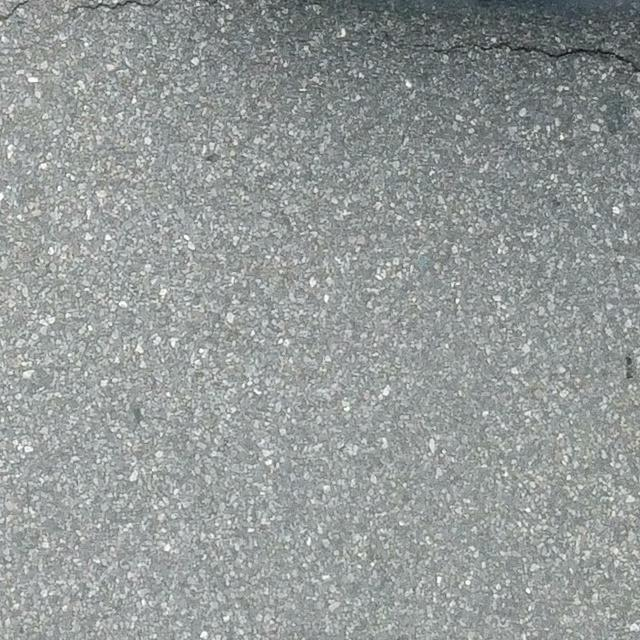TransverseCrack: (424, 40, 640, 72), (71, 1, 161, 11)
